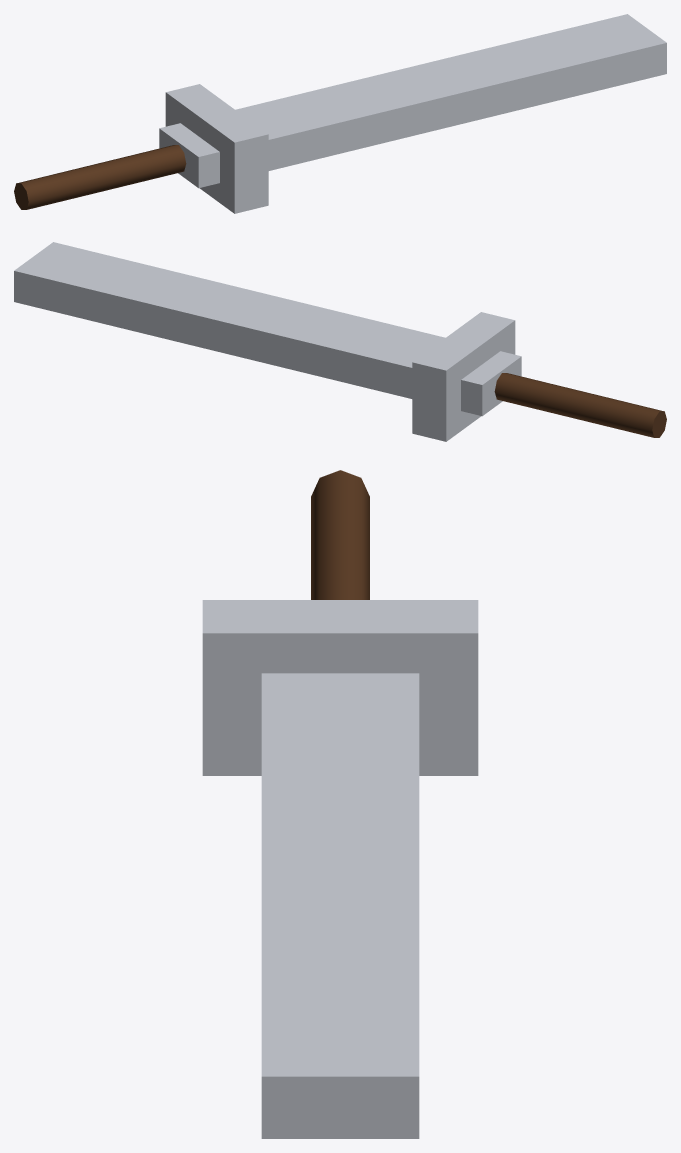
The model's file is sword.glb.
3 renders of one model, top to bottom at view 1: azimuth 30°, elevation 25°; view 2: azimuth 150°, elevation 25°; view 3: azimuth 270°, elevation 25°, orthographic. The views are drawn at different scales.
Bounding box in the file's own units: 0.735 × 0.08 × 0.14.
